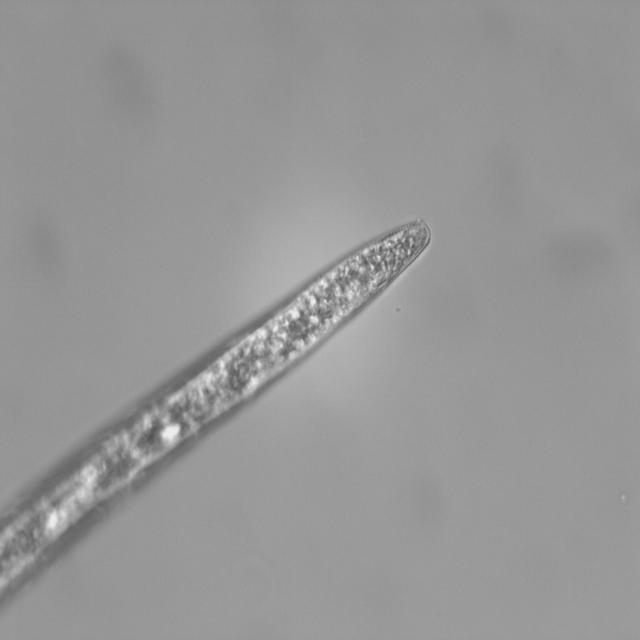Pratylenchus: (185, 198, 442, 428)
